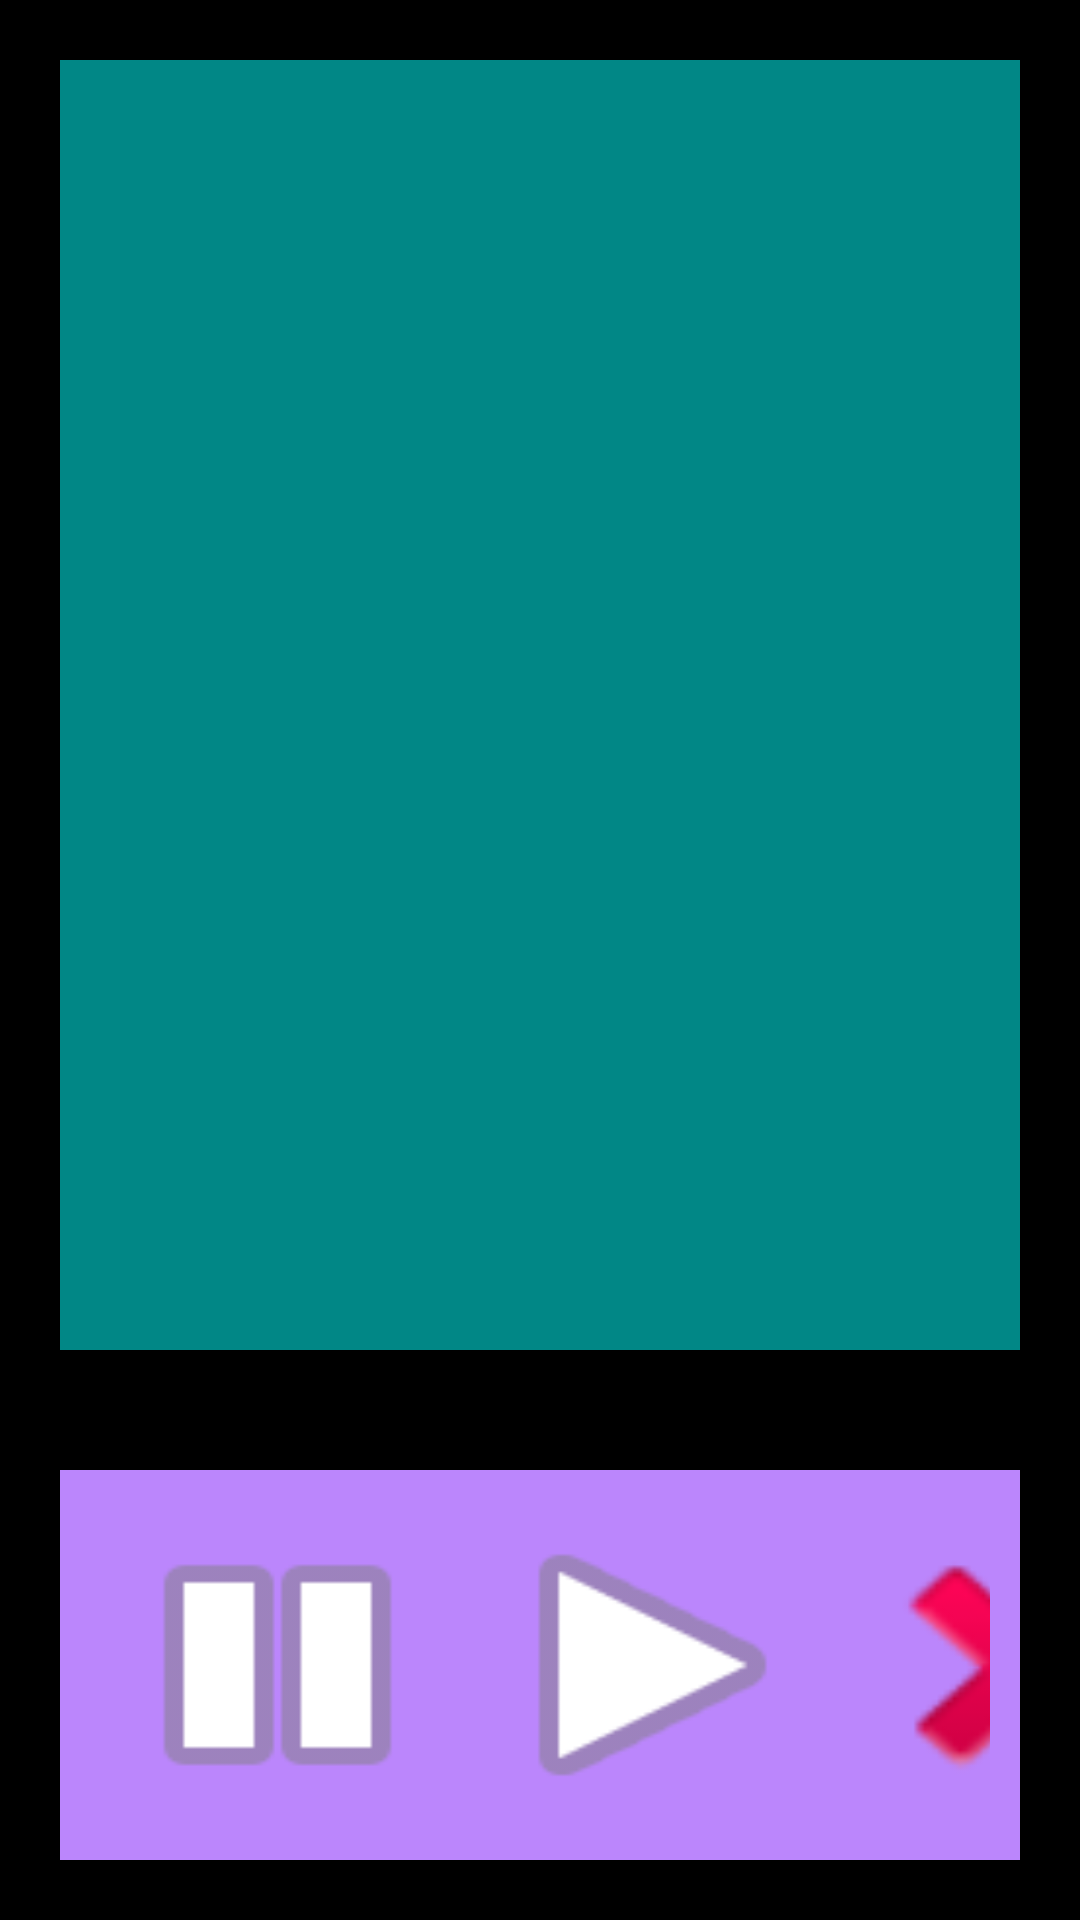

Locate icon controls on the screen. Image size 1080 x 1920, boxes as (x1=x1, y1=y1, x2=x2, y2=y2).
pause: (x1=164, y1=1565, x2=391, y2=1765)
play: (x1=539, y1=1555, x2=766, y2=1775)
